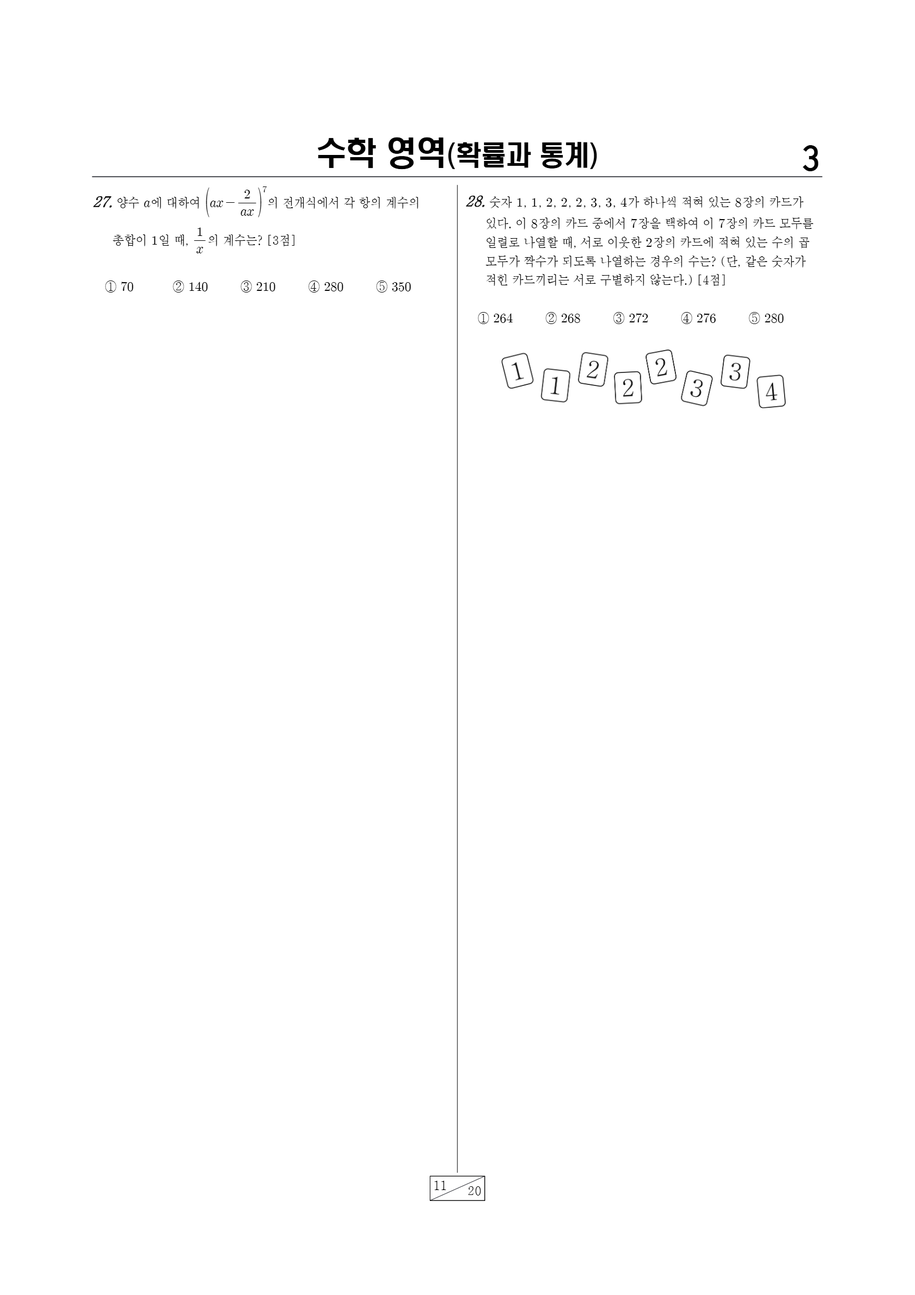opt_1: (104, 277, 118, 294), (477, 311, 489, 324)
opt_2: (172, 280, 184, 292), (545, 312, 557, 324)
opt_3: (241, 278, 252, 294), (613, 311, 624, 325)
opt_4: (680, 310, 692, 324), (308, 279, 319, 293)
opt_5: (375, 279, 387, 293), (749, 310, 760, 325)
